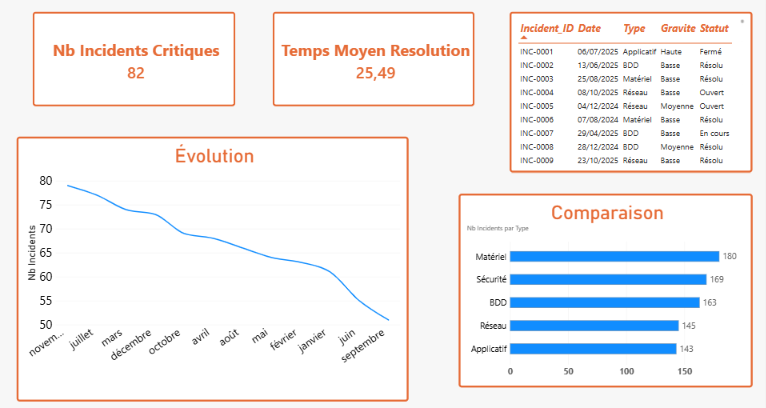

Layout of this report page (visuals, bound fields, positions):
{"tool":"powerbi","page":{"name":"Incidents","canvas":[1920,1080],"ordinal":1},"visuals":[{"type":"cardVisual","fields":{"Data":["Mesures.Nb Incidents Critiques"]},"box":[87.5,35,507.5,237.5],"z":0},{"type":"cardVisual","fields":{"Data":["Mesures.Temps Moyen Resolution"]},"box":[687.5,35,505,237.5],"z":1000},{"type":"lineChart","title":"Évolution","fields":{"Category":["Calendrier.Nom_Mois"],"Y":["Mesures.Nb Incidents"]},"box":[47.5,347.5,980,662.5],"z":2000},{"type":"barChart","title":"Comparaison","fields":{"Category":["incidents.Type"],"Y":["Mesures.Nb Incidents"]},"box":[1152.5,490,735,485],"z":3000},{"type":"tableEx","fields":{"Values":["incidents.Incident_ID","incidents.Date","incidents.Type","incidents.Gravite","incidents.Statut"]},"box":[1280,35,607.5,402.5],"z":4000}]}

Visuals, with their boxes on the page's 1920x1080 design canvas (x1, y1, x2, y2). These are canvas units, not pixel positions in the 766x408 screenshot, which may show the page scaled, cropped or inside an application window:
cardVisual - Mesures.Nb Incidents Critiques: BBox(88, 35, 595, 272)
cardVisual - Mesures.Temps Moyen Resolution: BBox(688, 35, 1192, 272)
"Évolution" lineChart: BBox(48, 348, 1028, 1010)
"Comparaison" barChart: BBox(1152, 490, 1888, 975)
tableEx - incidents.Incident_ID x incidents.Date: BBox(1280, 35, 1888, 438)
